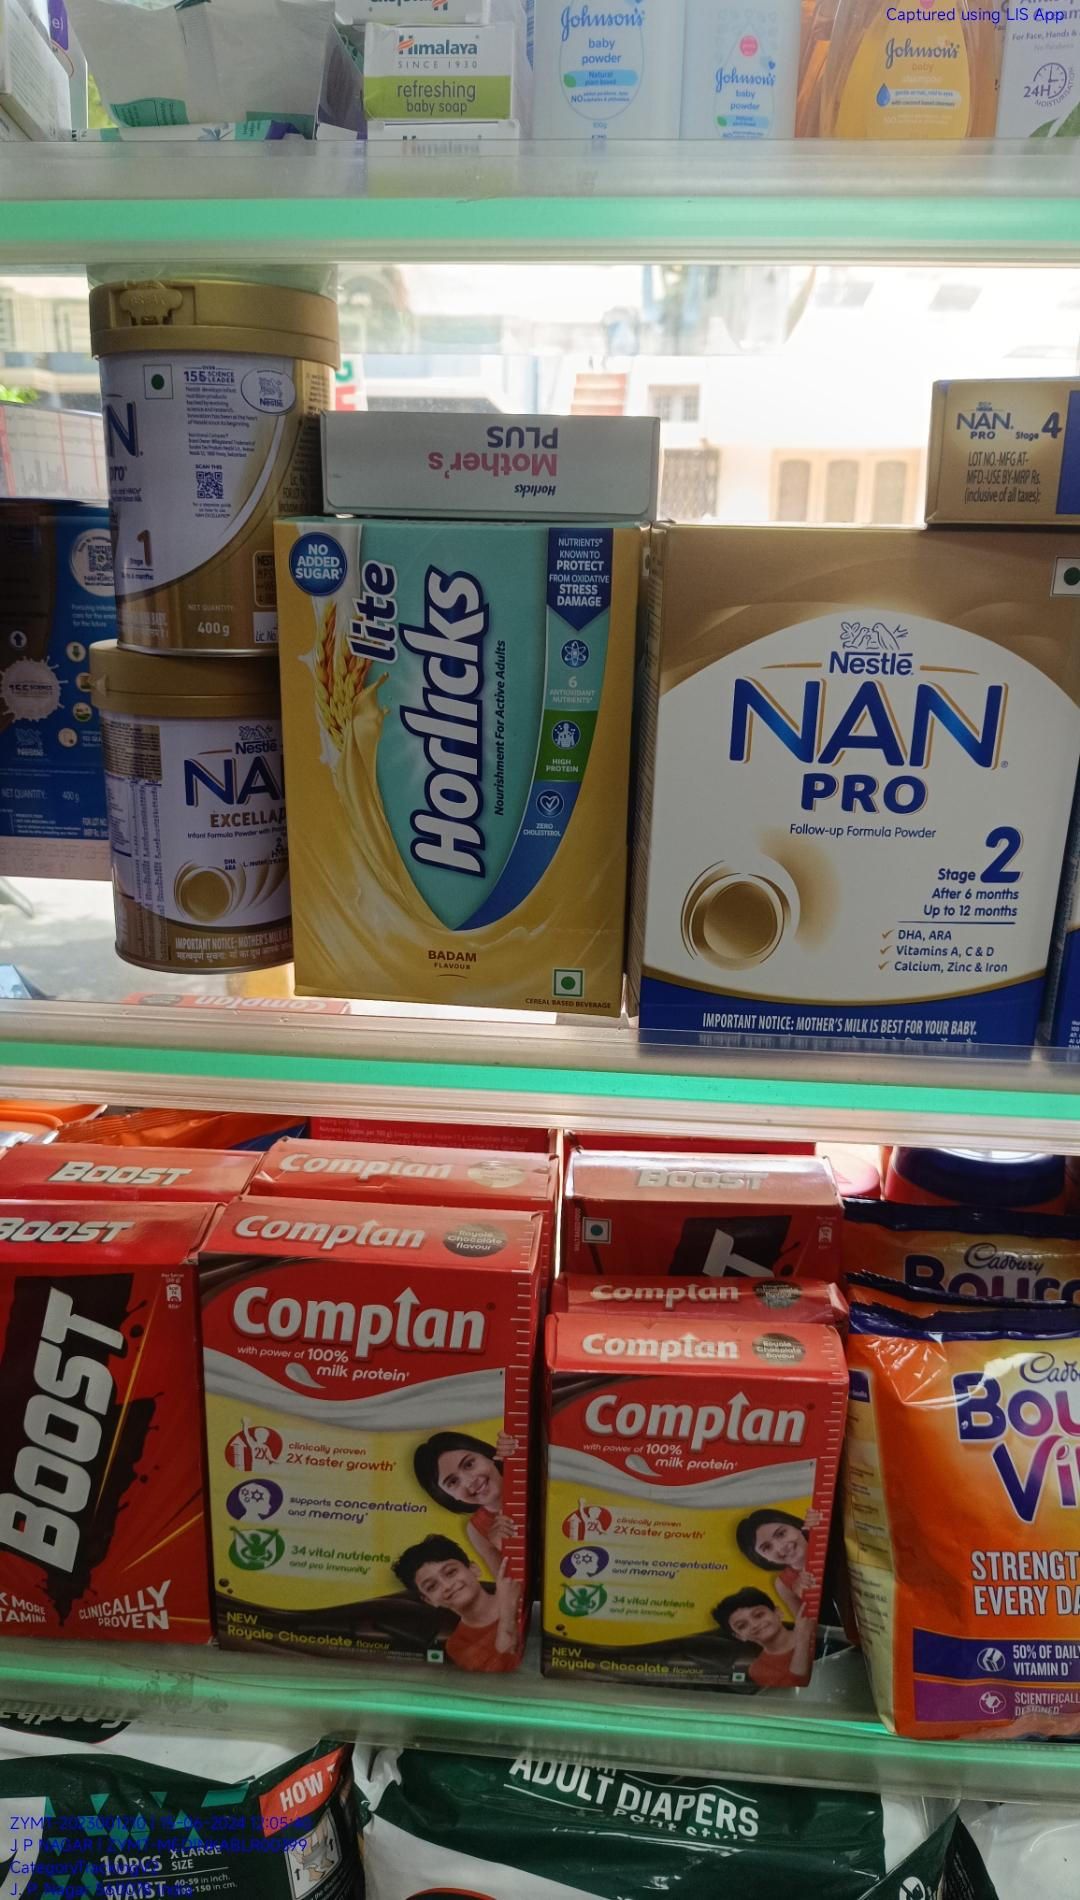COMPLAN_CHOCOLATE_200_GMS_PACK: (549, 1356, 815, 1687)
COMPLAN_CHOCOLATE_500_GMS_PACK: (213, 1242, 524, 1659)
